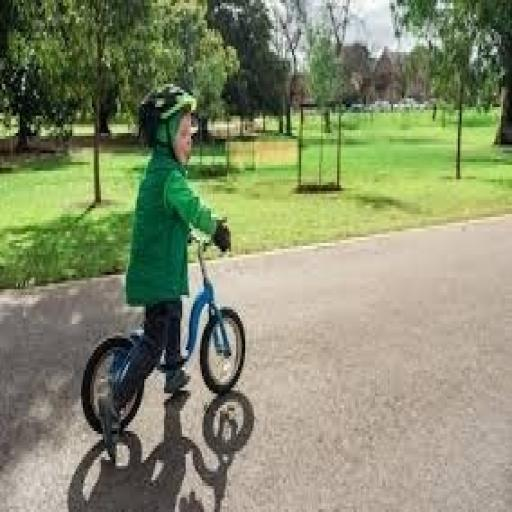cycling: (92, 78, 236, 457)
